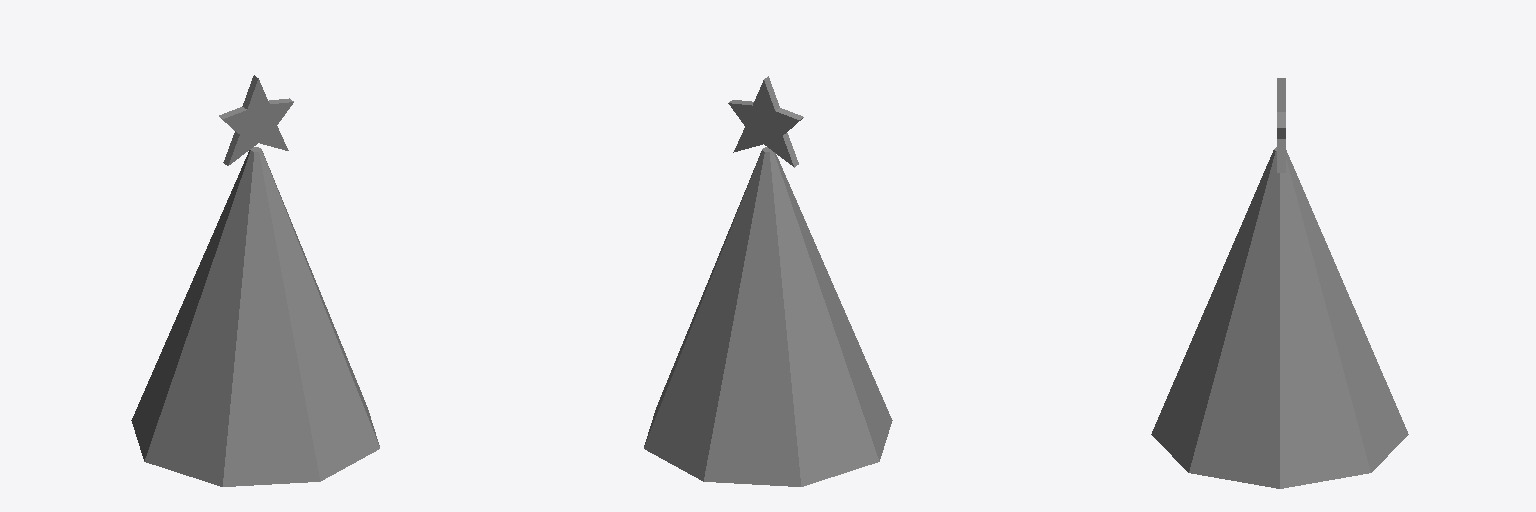
Rendered from gorrito.obj.
The picture shows the model from 3 angles: view 1: azimuth 30°, elevation 25°; view 2: azimuth 150°, elevation 25°; view 3: azimuth 270°, elevation 25°; orthographic projection.
Visible parts, largest first — view 1: gorro; view 2: gorro; view 3: gorro.
Boxes of the visible parts, x1=… form: gorro: x1=131, y1=75, x2=379, y2=486; gorro: x1=644, y1=76, x2=892, y2=486; gorro: x1=1151, y1=78, x2=1408, y2=488.
Bounding box in the file's own units: 24.69 × 37.73 × 24.69.